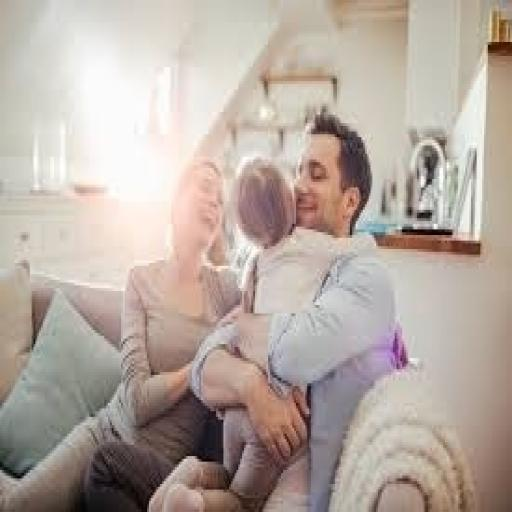hugging: (147, 106, 410, 510), (0, 151, 244, 509)
